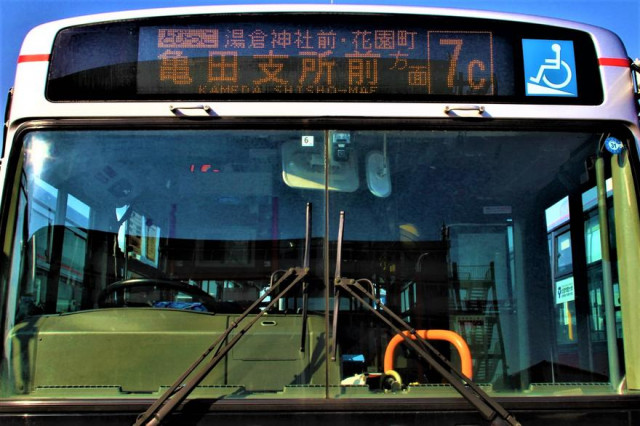destination: (136, 26, 514, 96)
